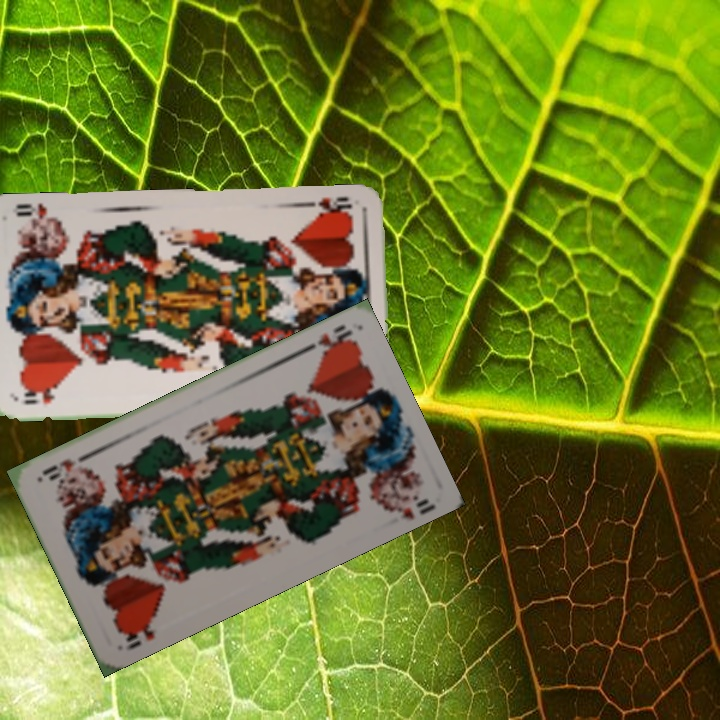HO: (297, 320, 357, 357), (115, 615, 157, 653), (311, 193, 355, 219), (20, 385, 62, 407)
